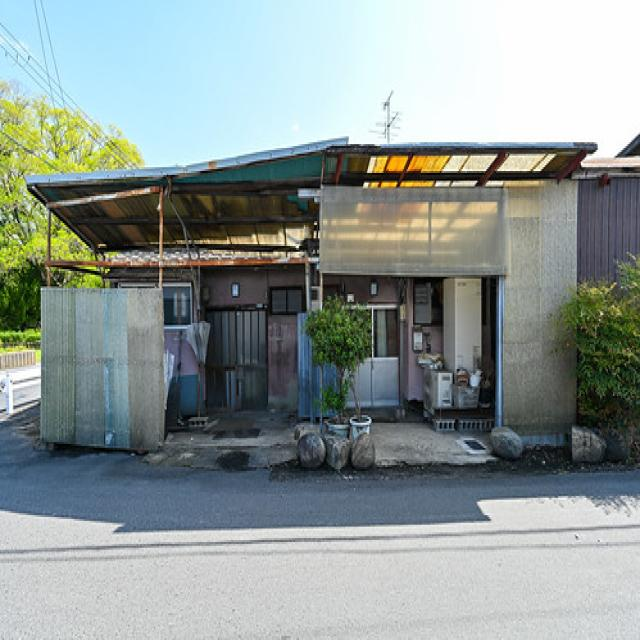building: (21, 134, 596, 478)
